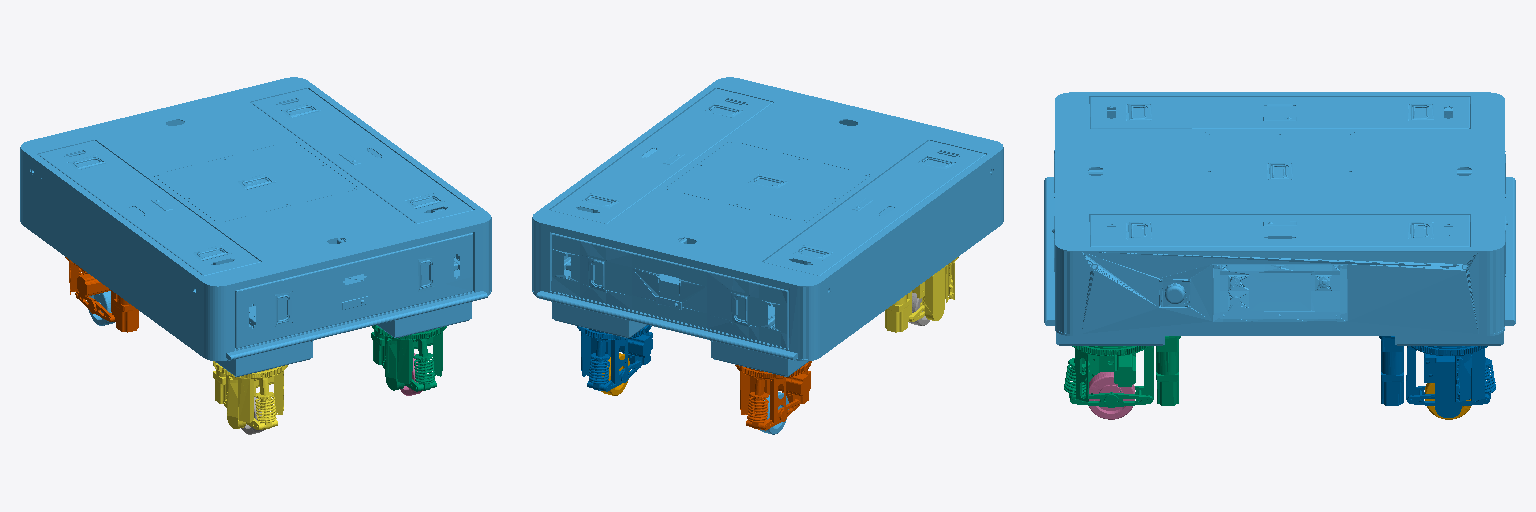
URDF robot description (my_robot):
<?xml version="1.0"?>
<robot xmlns:xacro="http://www.ros.org/wiki/xacro" name="my_robot">

    <!--Base Link-->
    <link name="base_link">
    </link>

    <!--Carbody Link -->
    <link name="car_body_link">
        <visual>
          <geometry>
            <mesh filename="package://vehicle_description/meshes/car_body.stl" />
          </geometry>>
        </visual>
        <collision>
            <origin xyz="0.0 0.0 0.294" rpy="0.0 0.0 0.0"/>
            <geometry>
                <box size="1.0 1.2 0.587"/>
            </geometry>
        </collision>
    </link>

    <!--Car Body and Base joint-->
    <joint name="car_body_joint" type="fixed">
        <origin xyz="0 0 0.0" rpy="0.0 0.0 0.0"/>
        <parent link="base_link"/>
        <child link="car_body_link"/>
    </joint>

    <!--Steering Link-->
    <!-- Front Left Steering-->
    <link name="front_left_s_link">
        <inertial>
            <mass value="13.0"/>
            <inertia ixx="0.0" ixy="0.0" ixz="0.0" iyy="0.0" iyz="0.0" izz="0.0"/>
        </inertial>
        <visual>
            <geometry>
                <mesh filename="package://vehicle_description/meshes/steering.stl"/>
            </geometry>
        </visual>
    </link>
    <!-- Front Right Steering-->
    <link name="front_right_s_link">
        <inertial>
            <mass value="13.0"/>
            <inertia ixx="0.0" ixy="0.0" ixz="0.0" iyy="0.0" iyz="0.0" izz="0.0"/>
        </inertial>
        <visual>
            <geometry>
                <mesh filename="package://vehicle_description/meshes/steering.stl"/>
            </geometry>
        </visual>
    </link>
    <!-- Back Left Steering-->
    <link name="back_left_s_link">
        <inertial>
            <mass value="13.0"/>
            <inertia ixx="0.0" ixy="0.0" ixz="0.0" iyy="0.0" iyz="0.0" izz="0.0"/>
        </inertial>
        <visual>
            <geometry>
                <mesh filename="package://vehicle_description/meshes/steering.stl"/>
            </geometry>
        </visual>
    </link>
    <!-- Back Right Steering-->
    <link name="back_right_s_link">
        <inertial>
            <mass value="13.0"/>
            <inertia ixx="0.0" ixy="0.0" ixz="0.0" iyy="0.0" iyz="0.0" izz="0.0"/>
        </inertial>
        <visual>
            <geometry>
                <mesh filename="package://vehicle_description/meshes/steering.stl"/>
            </geometry>
        </visual>
    </link>


    <!--Wheel Link-->
    <!-- Front Left Wheel -->
    <link name="front_left_w_link">
        <inertial>
            <mass value="0.5"/>
            <inertia ixx="0.0" ixy="0.0" ixz="0.0" iyy="0.0" iyz="0.0" izz="0.0"/>
        </inertial>
        <visual>
            <geometry>
                <mesh filename="package://vehicle_description/meshes/wheel.stl" />
            </geometry>
        </visual>
    </link>
    <!--Front Right Wheel-->
    <link name="front_right_w_link">
        <inertial>
            <mass value="0.5"/>
            <inertia ixx="0.0" ixy="0.0" ixz="0.0" iyy="0.0" iyz="0.0" izz="0.0"/>
        </inertial>
        <visual>
            <geometry>
                <mesh filename="package://vehicle_description/meshes/wheel.stl" />
            </geometry>
        </visual>
    </link>
    <!-- Back Left Wheel -->
    <link name="back_left_w_link">
        <inertial>
            <mass value="0.5"/>
            <inertia ixx="0.0" ixy="0.0" ixz="0.0" iyy="0.0" iyz="0.0" izz="0.0"/>
        </inertial>
        <visual>
            <geometry>
                <mesh filename="package://vehicle_description/meshes/wheel.stl" />
            </geometry>
        </visual>
    </link>
    <!--Back Right Wheel-->
    <link name="back_right_w_link">
        <inertial>
            <mass value="0.5"/>
            <inertia ixx="0.0" ixy="0.0" ixz="0.0" iyy="0.0" iyz="0.0" izz="0.0"/>
        </inertial>
        <visual>
            <geometry>
                <mesh filename="package://vehicle_description/meshes/wheel.stl" />
            </geometry>
        </visual>
    </link>

    <!--Steering Joints-->
    <!--Front Left Steering Joint-->
    <joint name="front_left_s_joint" type="revolute">
        <origin xyz="0.278 -0.45 0.0" rpy="0.0 0.0 1.5708"/>
        <parent link="car_body_link"/>
        <child link="front_left_s_link"/>
        <axis xyz="0.0 0.0 1.0"/>
        <limit lower="-1.047" upper="1.047" effort="20.0" velocity="314.16"/>
    </joint>
    <!--Front Right Steering Joint-->
    <joint name="front_right_s_joint" type="revolute">
        <origin xyz="-0.278 -0.45 0.0" rpy="0.0 0.0 1.5708"/>
        <parent link="car_body_link"/>
        <child link="front_right_s_link"/>
        <axis xyz="0.0 0.0 1.0"/>
        <limit lower="-1.047" upper="1.047" effort="20.0" velocity="314.16"/>
    </joint>   
        <!--Back Left Steering Joint-->
    <joint name="back_left_s_joint" type="revolute">
        <origin xyz="0.278 0.45 0.0" rpy="0.0 0.0 -1.5708"/>
        <parent link="car_body_link"/>
        <child link="back_left_s_link"/>
        <axis xyz="0.0 0.0 1.0"/>
        <limit lower="-1.047" upper="1.047" effort="20.0" velocity="314.16"/>
    </joint>
    <!--Front Right Steering Joint-->
    <joint name="back_right_s_joint" type="revolute">
        <origin xyz="-0.278 0.45 0.0" rpy="0.0 0.0 -1.5708"/>
        <parent link="car_body_link"/>
        <child link="back_right_s_link"/>
        <axis xyz="0.0 0.0 1.0"/>
        <limit lower="-1.047" upper="1.047" effort="20.0" velocity="314.16"/>
    </joint>  

    <!--Wheel Rotating Joints-->
    <!--Front Left Wheel Joint-->
    <joint name="front_left_r_joint" type="continuous">
        <parent link="front_left_s_link"/>
        <child link="front_left_w_link"/>
        <axis xyz="0.0 1.0 0.0"/>
        <origin xyz="0 0 0.065"/>
    </joint>
    <!--Front Right Wheel Joint-->
    <joint name="front_right_r_joint" type="continuous">
        <parent link="front_right_s_link"/>
        <child link="front_right_w_link"/>
        <axis xyz="0.0 1.0 0.0"/>
        <origin xyz="0 0 0.065"/>
    </joint>
        <!--Back Left Wheel Joint-->
    <joint name="back_left_r_joint" type="continuous">
        <parent link="back_left_s_link"/>
        <child link="back_left_w_link"/>
        <axis xyz="0.0 1.0 0.0"/>
        <origin xyz="0 0 0.065"/>
    </joint>
    <!--Back Right Wheel Joint-->
    <joint name="back_right_r_joint" type="continuous">
        <parent link="back_right_s_link"/>
        <child link="back_right_w_link"/>
        <axis xyz="0.0 1.0 0.0"/>
        <origin xyz="0 0 0.065"/>
    </joint>

</robot>

--- Render facts (derived) ---
The picture shows the robot from 3 angles, left to right: view 1: azimuth 30°, elevation 25°; view 2: azimuth 150°, elevation 25°; view 3: azimuth 270°, elevation 25°; orthographic projection.
Robot: my_robot — 10 links, 9 joints (4 revolute, 4 continuous, 1 fixed); root link base_link; default pose: all joints at 0.
Links seen in each view (by area): view 1: car_body_link, front_left_s_link, front_right_s_link, back_right_s_link; view 2: car_body_link, back_left_s_link, back_right_s_link, front_right_s_link; view 3: car_body_link, back_left_s_link, front_left_s_link, front_left_w_link.
Boxes of the visible links, <box> form: car_body_link: <box>20,77,491,376</box>; front_left_s_link: <box>371,325,446,391</box>; front_right_s_link: <box>213,361,287,429</box>; back_right_s_link: <box>65,257,138,332</box>; car_body_link: <box>532,77,1003,376</box>; back_left_s_link: <box>577,325,652,391</box>; back_right_s_link: <box>735,361,811,430</box>; front_right_s_link: <box>885,257,958,332</box>; car_body_link: <box>1044,92,1515,345</box>; back_left_s_link: <box>1379,336,1495,417</box>; front_left_s_link: <box>1064,336,1180,407</box>; front_left_w_link: <box>1089,372,1134,419</box>.
Bounding box of the posed robot: 1.02 × 1.25 × 0.5982 m (x, y, z).
Meshes: 3 distinct files referenced, 9 mesh visuals loaded (3 binary STL).